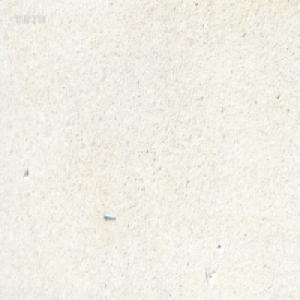Nail: (101, 210, 116, 220)
